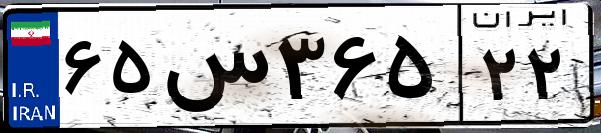2: (475, 38, 525, 113), (525, 38, 570, 115)
3: (270, 28, 330, 110)
5: (385, 28, 445, 110), (110, 28, 158, 98)
6: (330, 28, 385, 110), (57, 26, 110, 100)
س: (158, 20, 270, 120)
